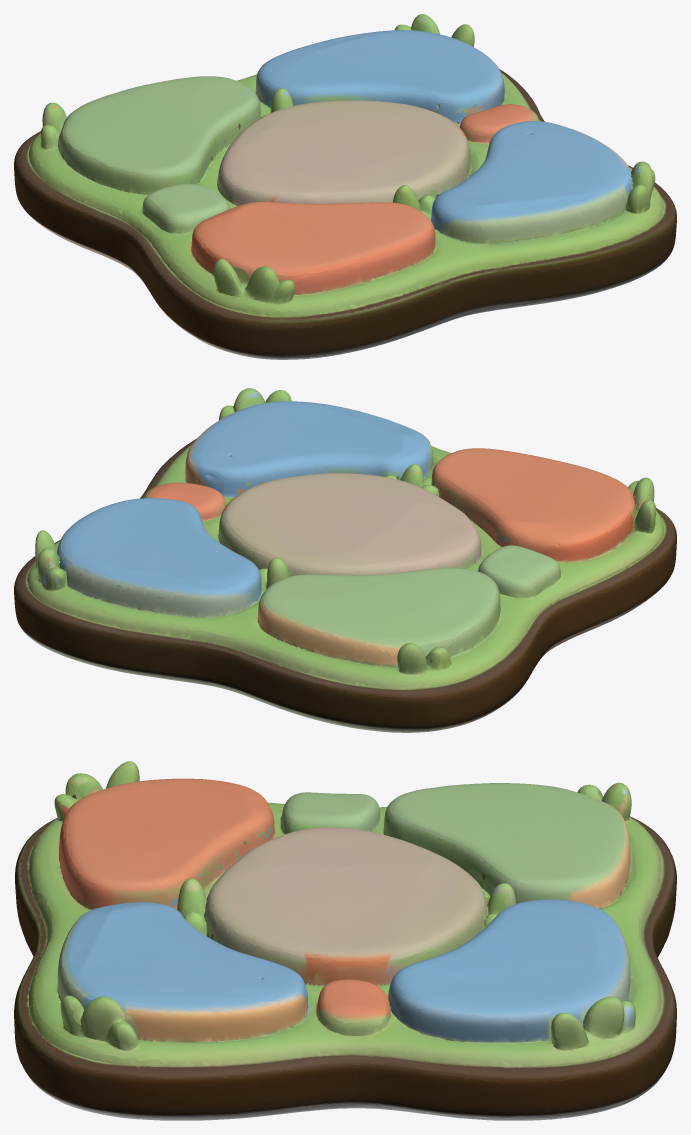
The model's file is ter_path_stone_01.glb.
3 renders of one model, top to bottom at view 1: azimuth 30°, elevation 25°; view 2: azimuth 150°, elevation 25°; view 3: azimuth 270°, elevation 25°, orthographic. The views are drawn at different scales.
Parts seen in each view (by area): view 1: geometry_0; view 2: geometry_0; view 3: geometry_0.
Boxes of the visible parts, x1,y1,x2,y2 form: geometry_0: (14, 14, 676, 359); geometry_0: (14, 388, 676, 732); geometry_0: (14, 761, 676, 1120).
Size of the model in its own units: 0.45 by 0.0853 by 0.453.
Materials: 1 (1 with a texture image).
